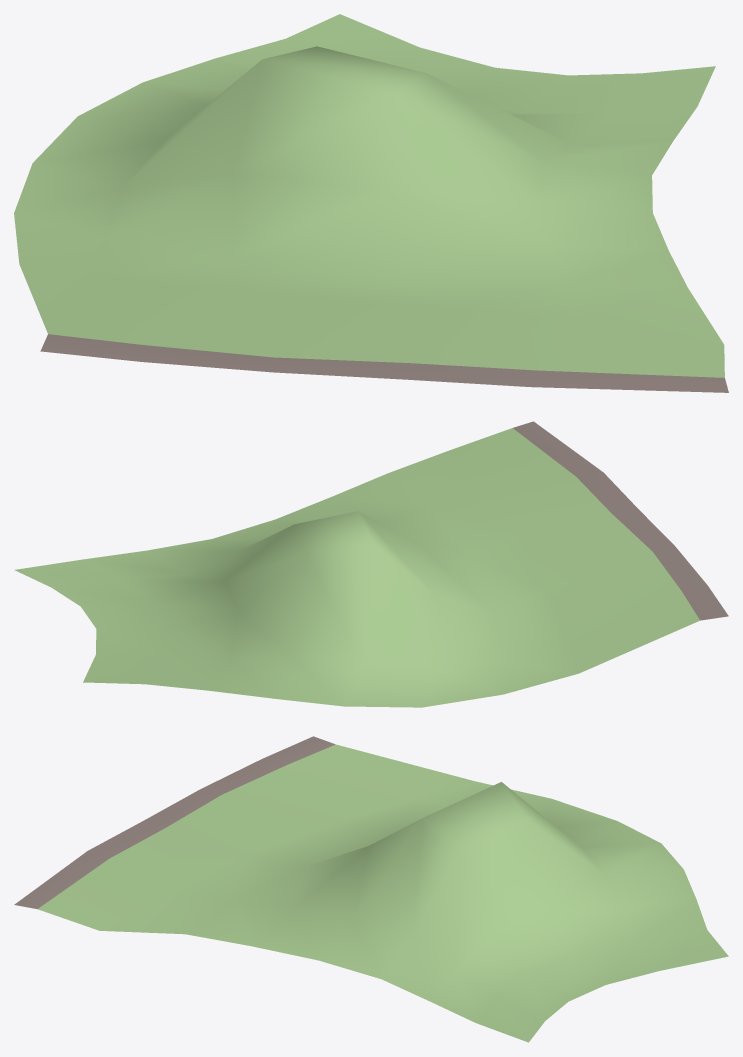
Rendered from level_81.fbx.
The picture shows the model from 3 angles, top to bottom: view 1: azimuth 30°, elevation 25°; view 2: azimuth 150°, elevation 25°; view 3: azimuth 270°, elevation 25°; orthographic projection. The views are drawn at different scales.
Visible parts, largest first — view 1: loc_081; view 2: loc_081; view 3: loc_081.
Part boxes in pixels (x1,y1,x2,y2): loc_081: (14, 14, 728, 392); loc_081: (14, 421, 728, 707); loc_081: (14, 736, 728, 1042).
Bounding box in the file's own units: 55.92 × 8.84 × 58.9.
